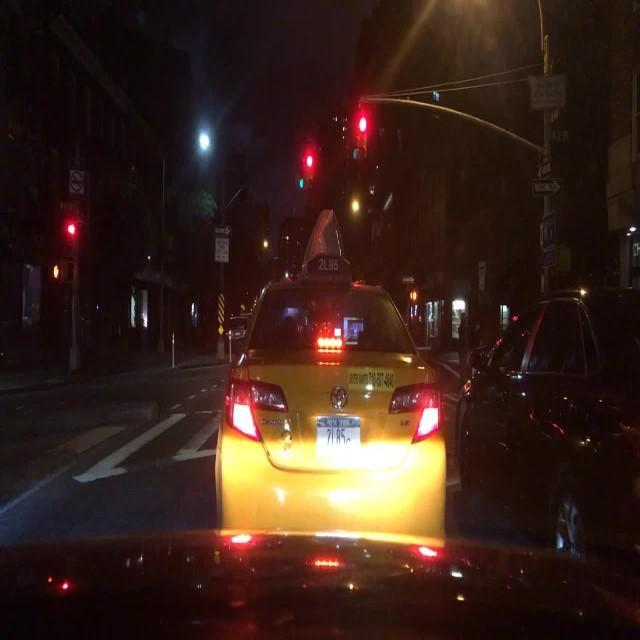normal: (199, 189, 473, 558)
